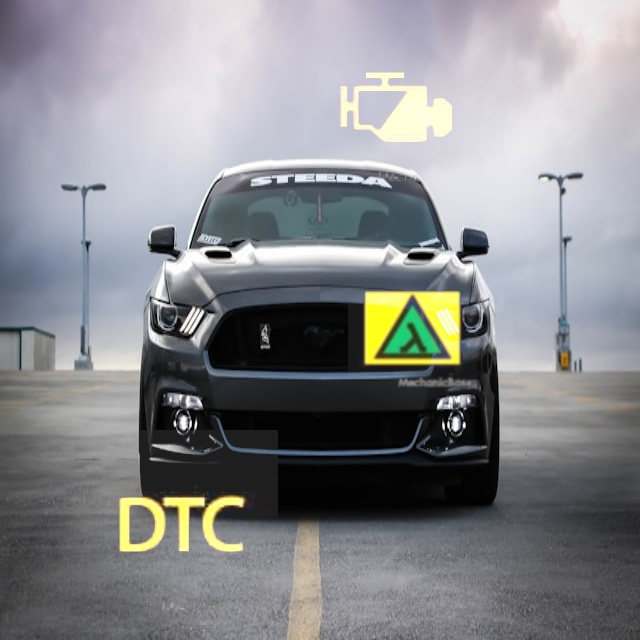symbol: (85, 430, 278, 623), (313, 26, 477, 190), (348, 264, 477, 393)
